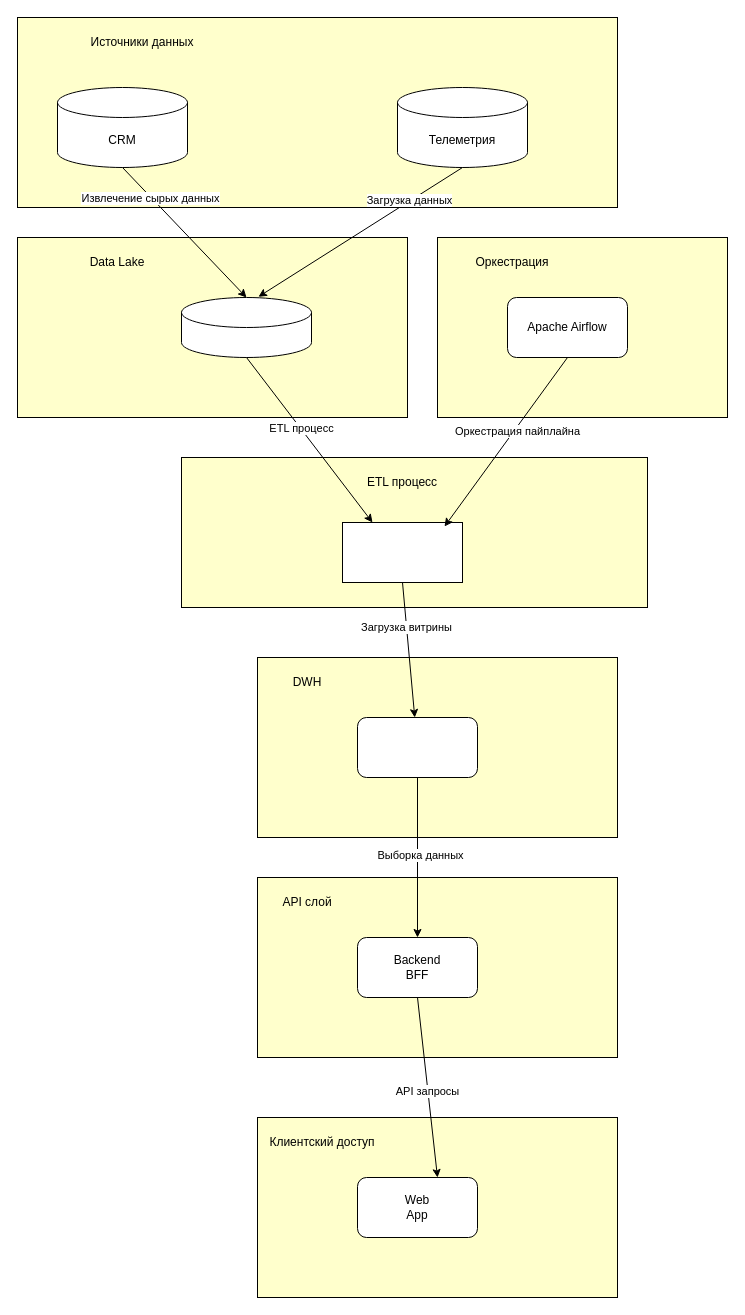
This 745x1315 diagram has some shape labels left out. The shapes that lost their labels are listed below. From the top down, each one's box as (x1, y1, x2, y2) in pixels, then its label:
(180, 296, 312, 358): MinIO
(342, 522, 462, 582): Объединение данных и агрегация
(356, 716, 478, 778): ClickHouse
